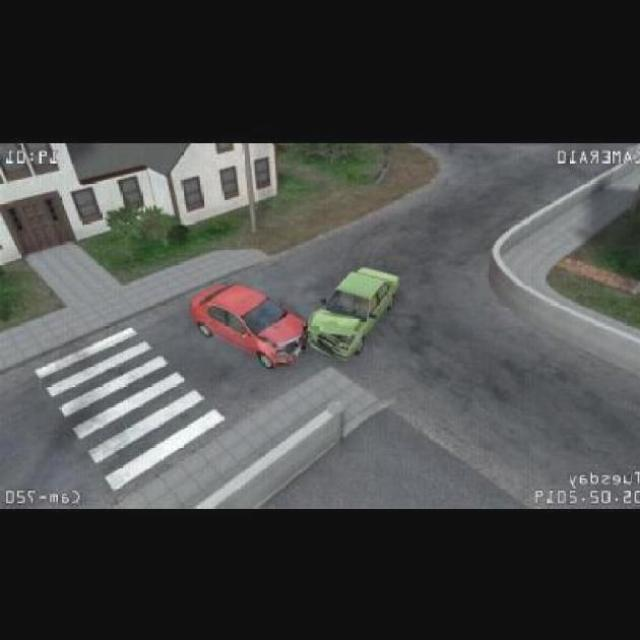accident: (186, 275, 389, 373)
